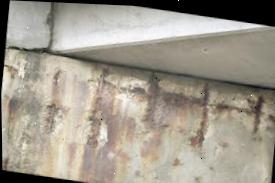exposed_rebar: (143, 71, 262, 145), (87, 65, 145, 146)
spalling: (80, 64, 275, 147), (42, 96, 65, 135)
